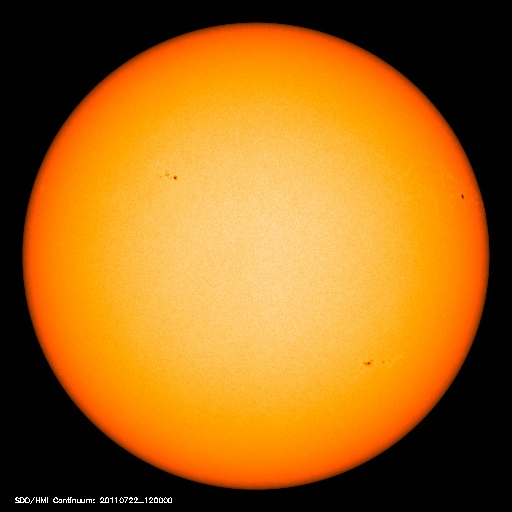sunspot: (350, 348, 394, 377), (149, 162, 188, 190), (446, 182, 476, 207)
